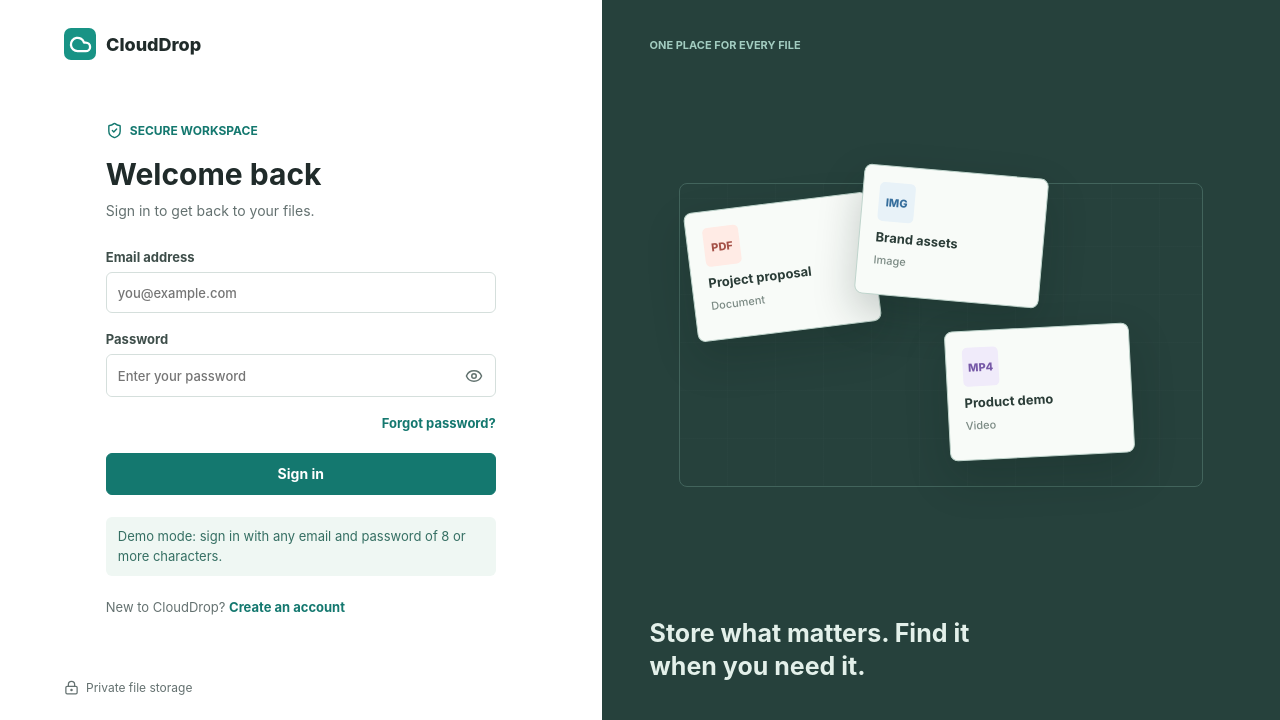
Test case: sign-in and registration errors › gives email and password fields their validation descriptions
The width and height of the screenshot is (1280, 720).
Click the button "Sign in" at point(301, 474), box top-left (106, 453), bottom-right (496, 495)
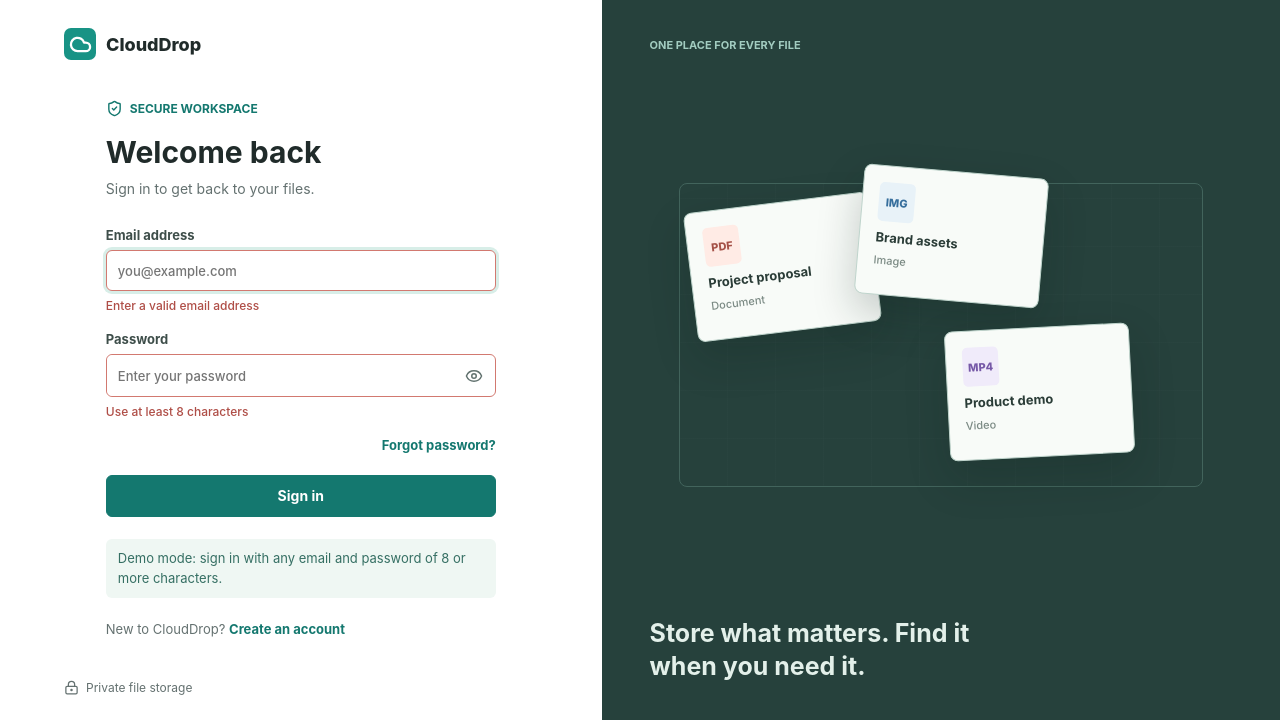
expect the text "Enter a valid email address" is shown: met, box top-left (106, 298), bottom-right (259, 313)
